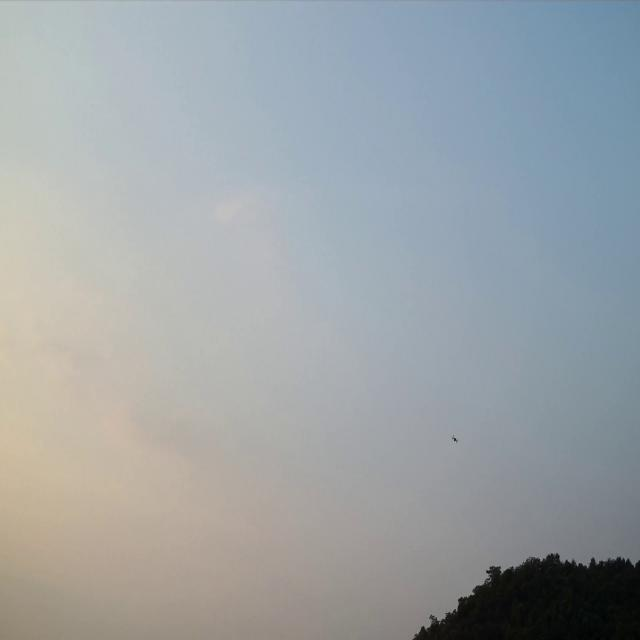UAV: (452, 435, 459, 443)
